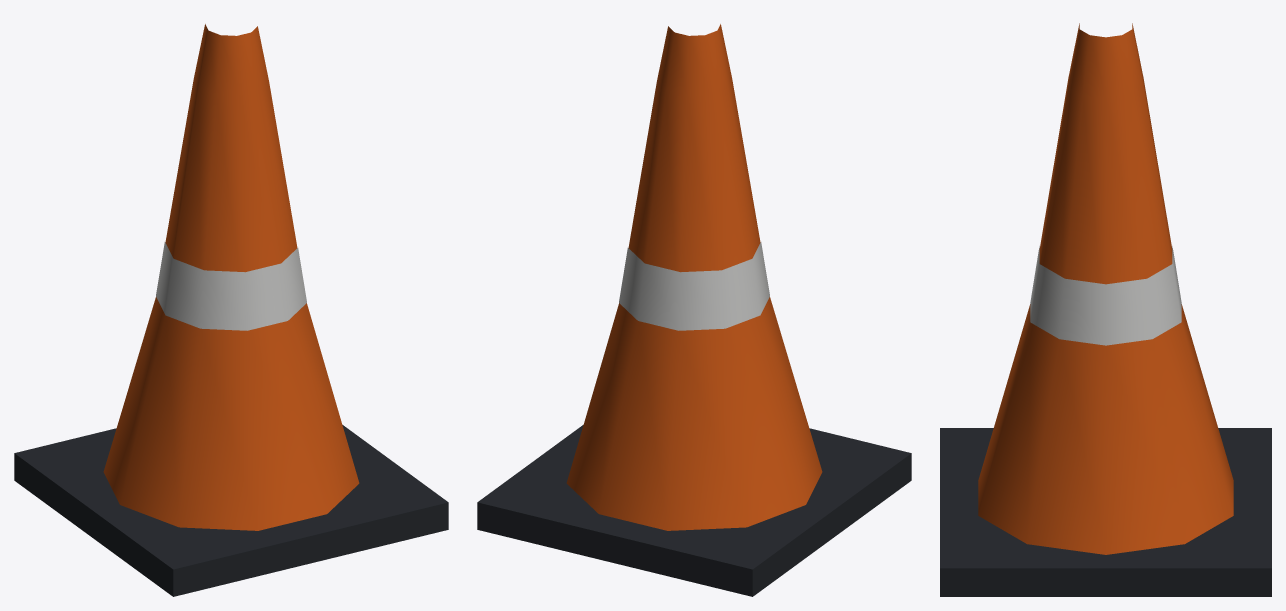
File: mobile.glb
The picture shows the model from 3 angles, left to right: view 1: azimuth 30°, elevation 25°; view 2: azimuth 150°, elevation 25°; view 3: azimuth 270°, elevation 25°; orthographic projection. The views are drawn at different scales.
Parts seen in each view (by area): view 1: cone; view 2: cone; view 3: cone.
Part boxes in pixels (x1,y1,x2,y2): cone: [14, 24, 448, 596]; cone: [477, 24, 911, 596]; cone: [940, 23, 1271, 596].
Size of the model in its own units: 0.42 by 0.7 by 0.42.
